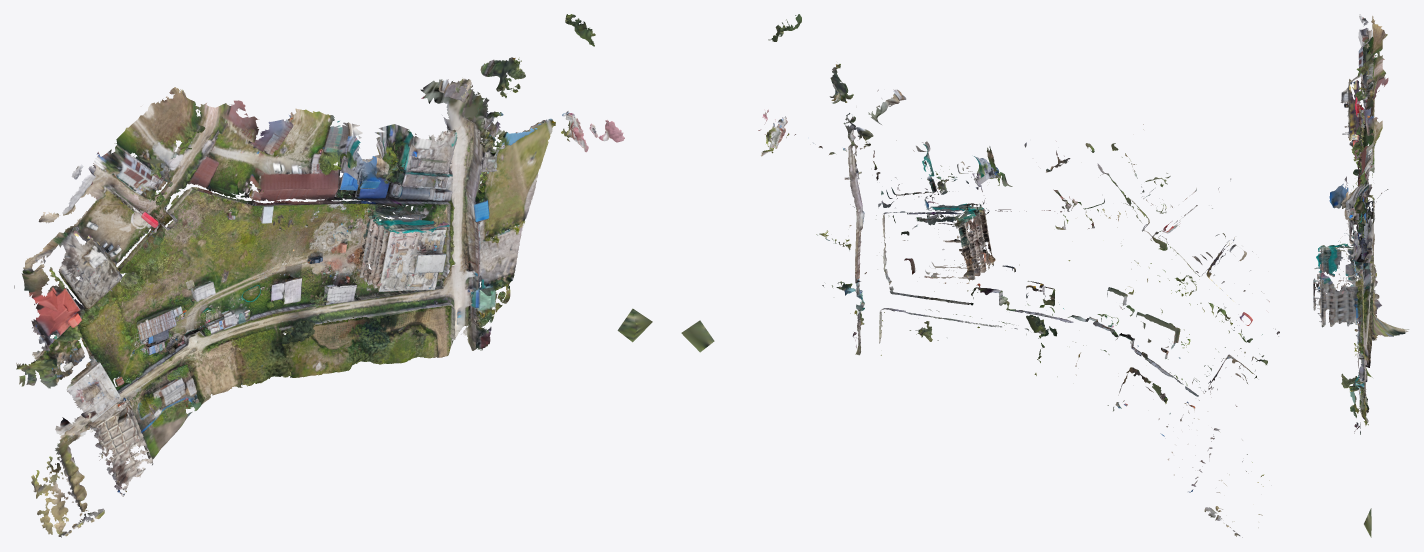
Rendered from kanken.glb.
3 views of the same model, side by side, from view 1: azimuth 30°, elevation 25°; view 2: azimuth 150°, elevation 25°; view 3: azimuth 270°, elevation 25° (orthographic). The views are drawn at different scales.
Size of the model in its own units: 242 by 154 by 36.16.
19 materials, 19 textured.
